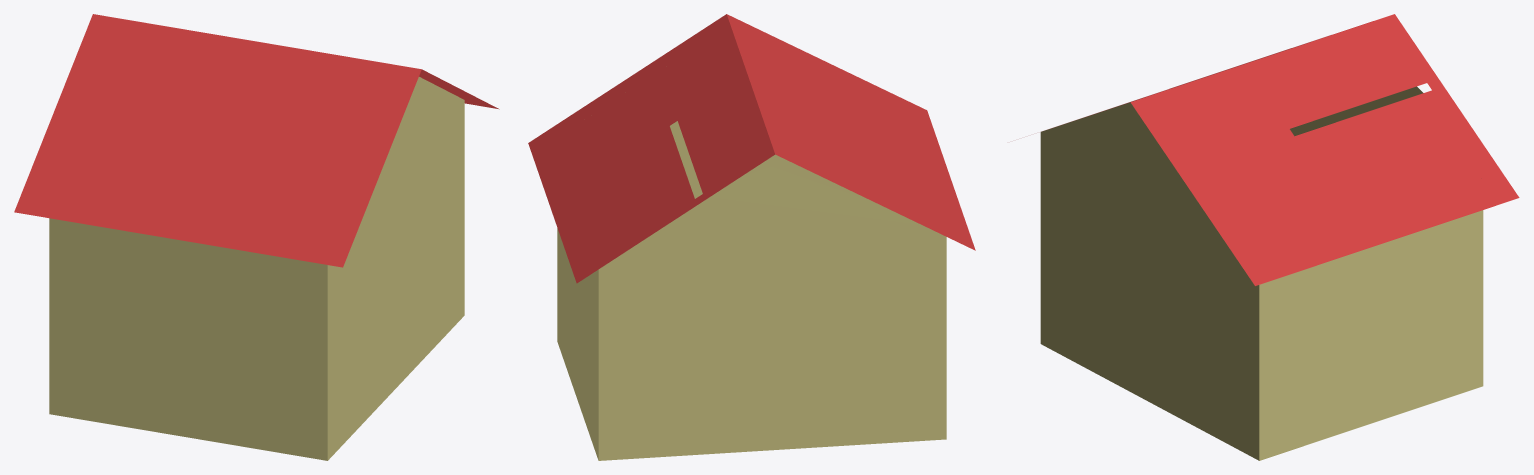
3 renders of one model, left to right at view 1: azimuth 30°, elevation 25°; view 2: azimuth 150°, elevation 25°; view 3: azimuth 270°, elevation 25°, orthographic. The views are drawn at different scales.
Bounding box in the file's own units: 20.32 × 19.9 × 13.1.
